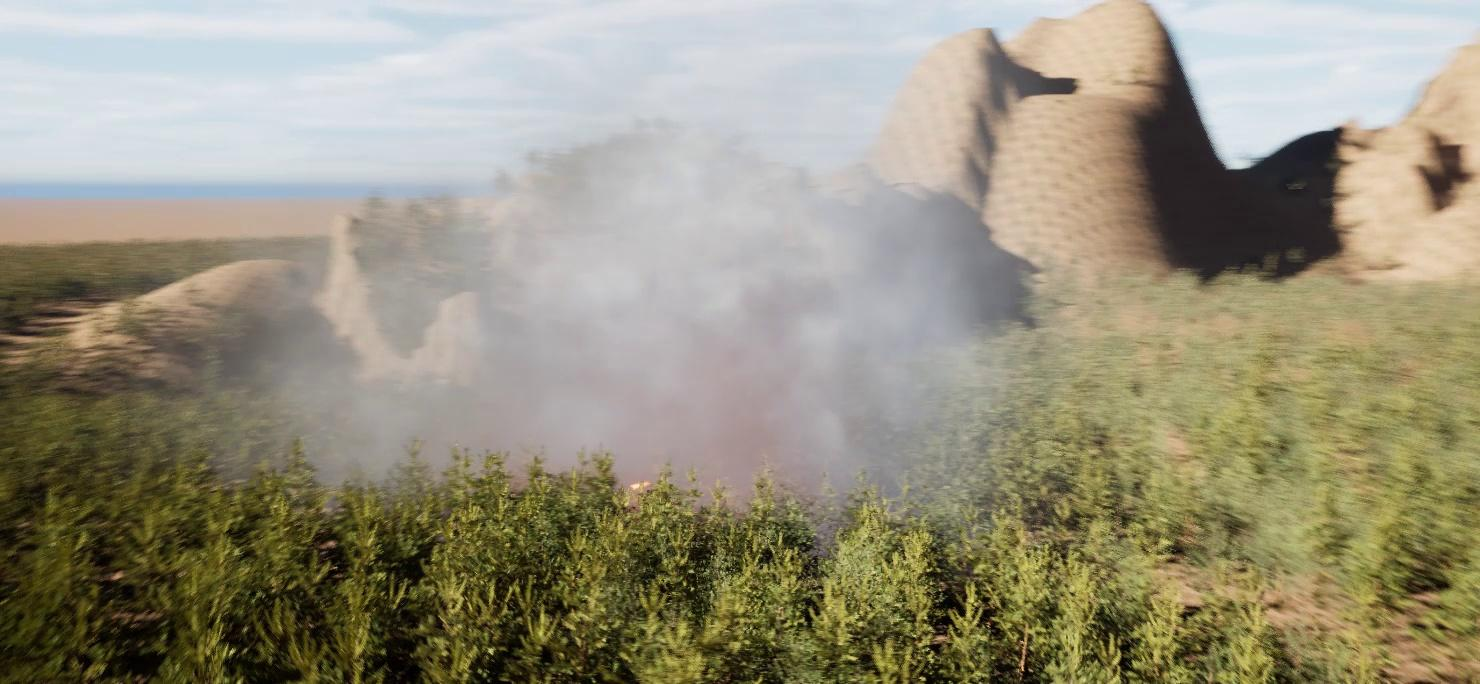smoke: (156, 38, 1019, 518)
